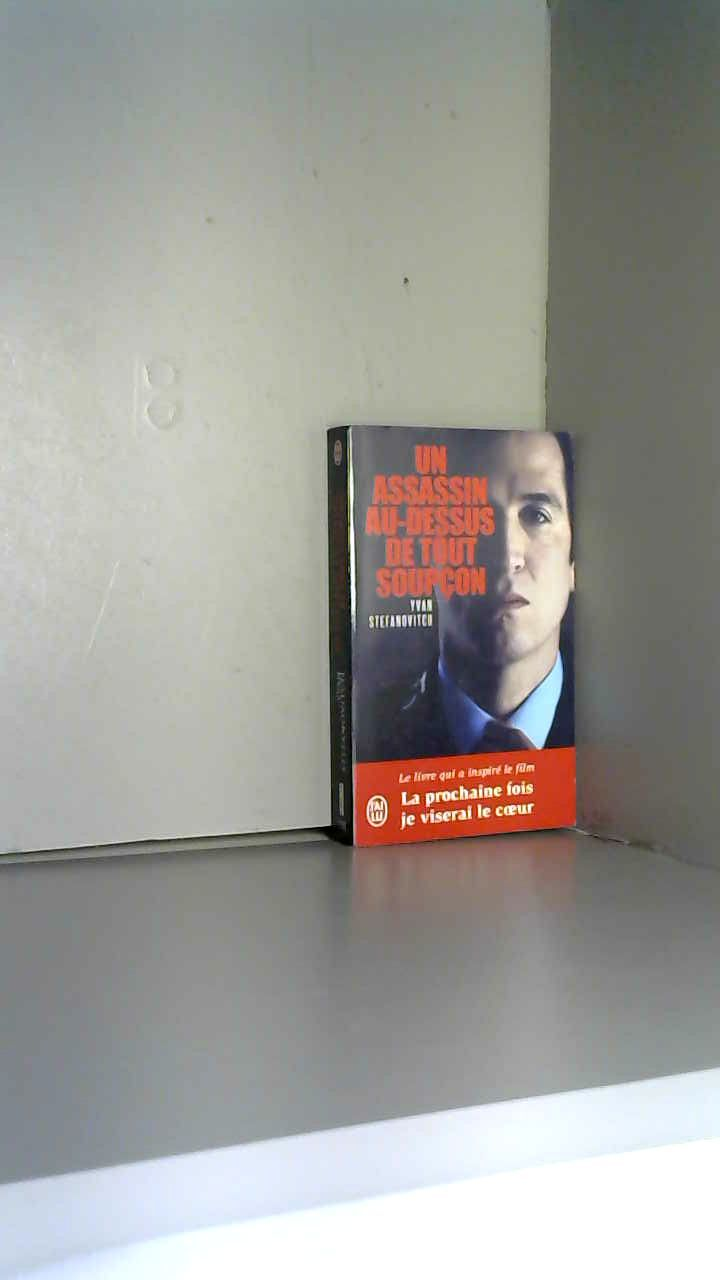book: (308, 406, 595, 868)
